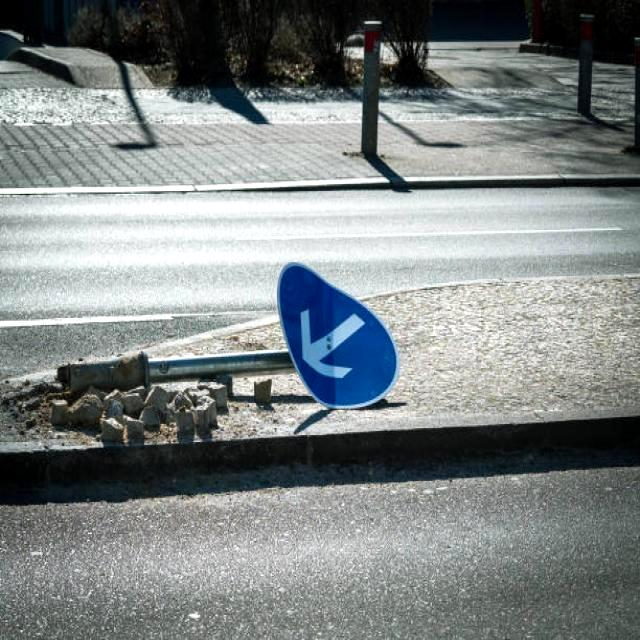Broken Pole: (48, 250, 413, 480)
